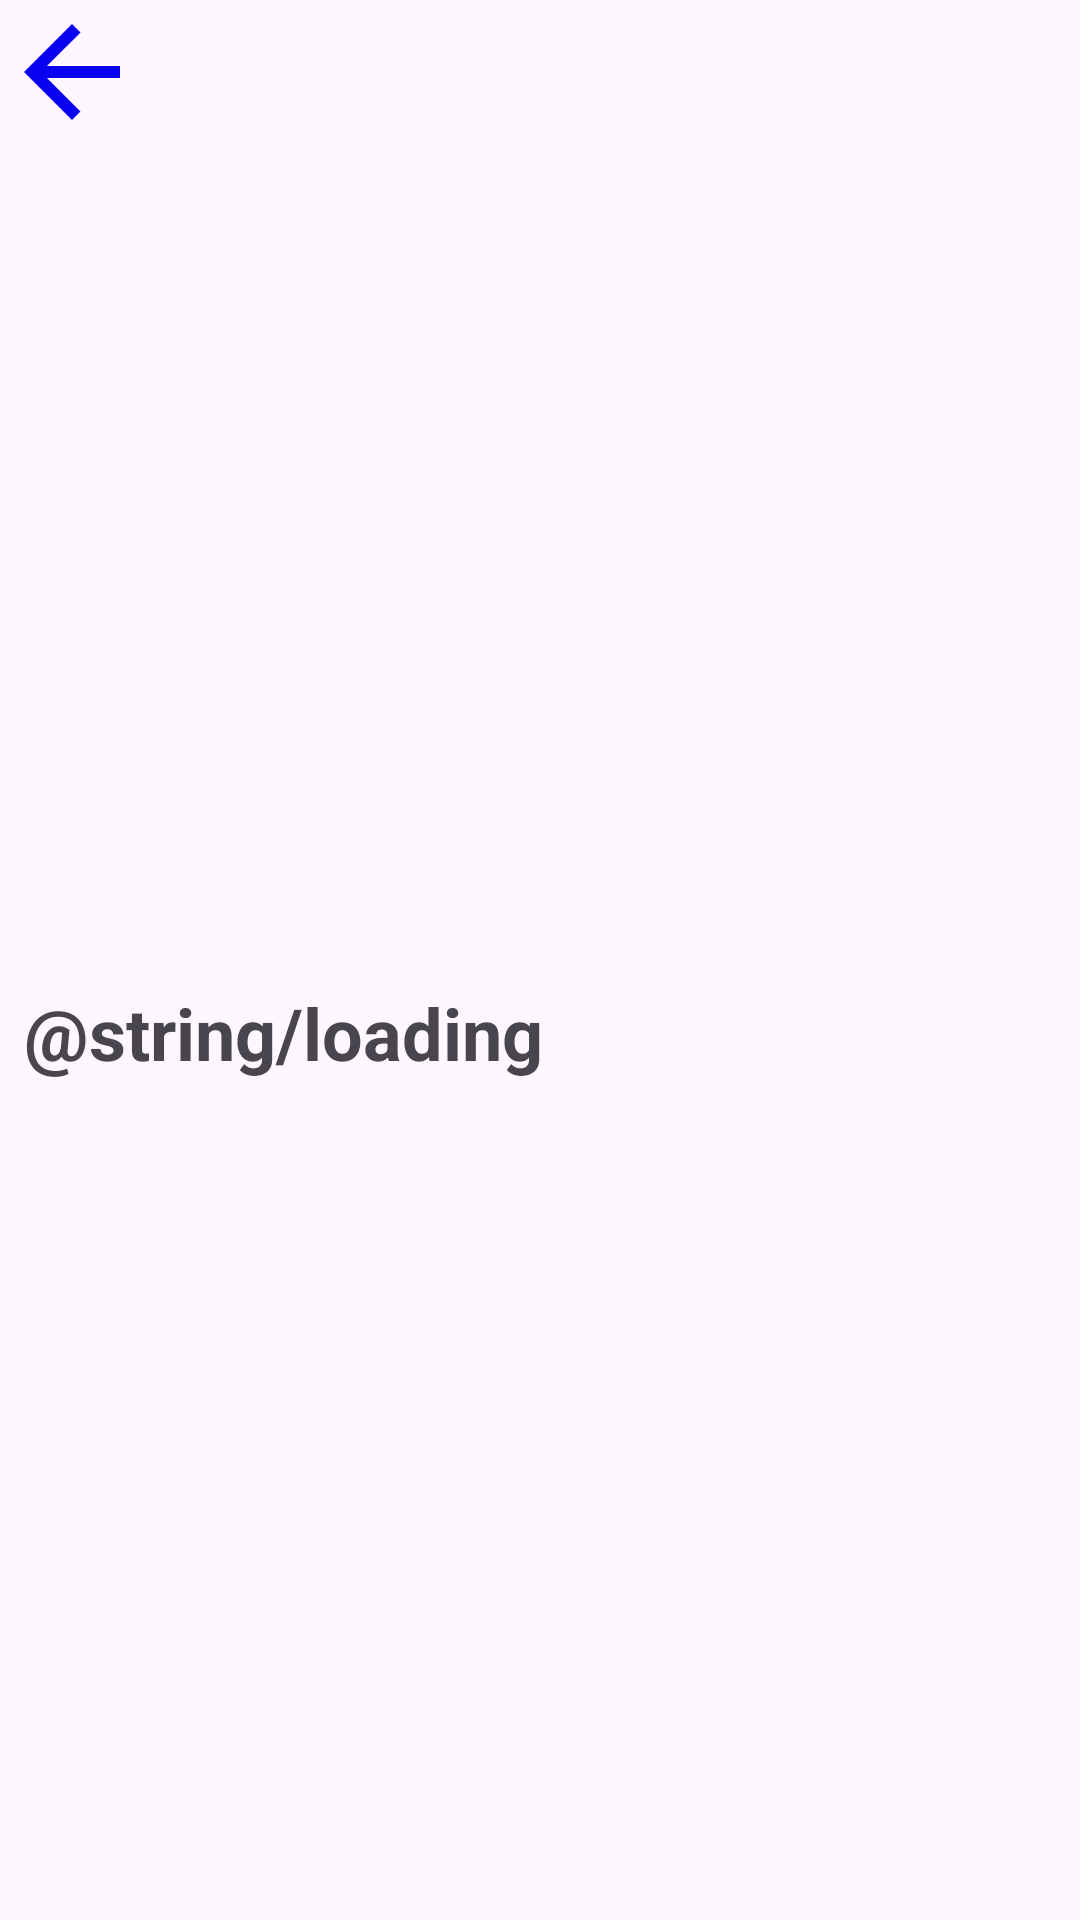

Icons on this 1080*1920 Android screen, each with the point to tap as (x,y):
arrow back: (72,72)
